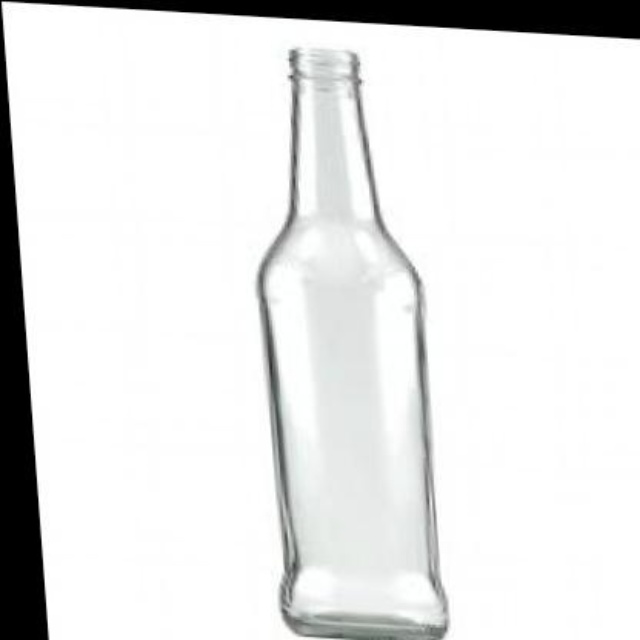trash: (258, 49, 446, 638)
